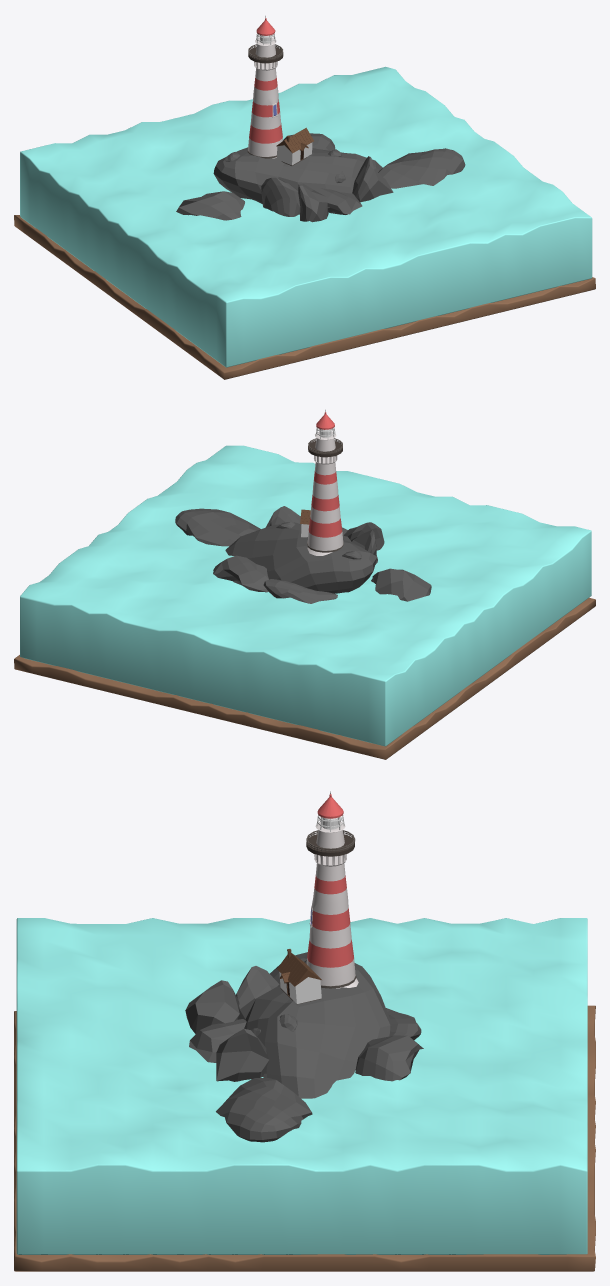
File: lighthouseee.fbx
3 renders of one model, top to bottom at view 1: azimuth 30°, elevation 25°; view 2: azimuth 150°, elevation 25°; view 3: azimuth 270°, elevation 25°, orthographic. The views are drawn at different scales.
Parts seen in each view (by area): view 1: Sea, Sand, Cube.001, Circle, Cube.002, Cube.003, Cube.012, Cube.014, Cube, Cube.013, Cube.004; view 2: Sea, Sand, Cube.001, Circle, Cube.002, Cube.003, Cube.005, Cube.006, Cube.013; view 3: Sea, Sand, Cube.001, Circle, Cube.002, Cube.005, Cube.014, Cube.013, Cube, Cube.004, Cube.012, Cube.006.
Part boxes in pixels (x1,y1,x2,y2): Sea: [20, 66, 592, 367]; Sand: [14, 215, 595, 379]; Cube.001: [213, 147, 382, 203]; Circle: [247, 16, 283, 158]; Cube.002: [378, 148, 465, 188]; Cube.003: [176, 191, 244, 220]; Cube.012: [261, 177, 300, 216]; Cube.014: [352, 156, 393, 202]; Cube: [276, 127, 313, 165]; Cube.013: [298, 183, 328, 222]; Cube.004: [315, 188, 362, 214]; Sea: [20, 445, 591, 746]; Sand: [14, 597, 595, 759]; Cube.001: [225, 522, 377, 593]; Circle: [307, 410, 343, 555]; Cube.002: [175, 508, 260, 546]; Cube.003: [371, 568, 431, 601]; Cube.005: [213, 555, 268, 592]; Cube.006: [263, 579, 337, 603]; Cube.013: [344, 522, 384, 550]; Sea: [16, 918, 587, 1254]; Sand: [14, 1005, 595, 1271]; Cube.001: [244, 960, 391, 1098]; Circle: [306, 791, 358, 988]; Cube.002: [216, 1078, 312, 1142]; Cube.005: [355, 1035, 423, 1081]; Cube.014: [216, 1029, 269, 1081]; Cube.013: [185, 980, 239, 1033]; Cube: [277, 949, 321, 1004]; Cube.004: [189, 1019, 246, 1062]; Cube.012: [236, 966, 279, 1019]; Cube.006: [386, 1008, 421, 1039].
Size of the model in its own units: 1469 by 1048 by 1441.
